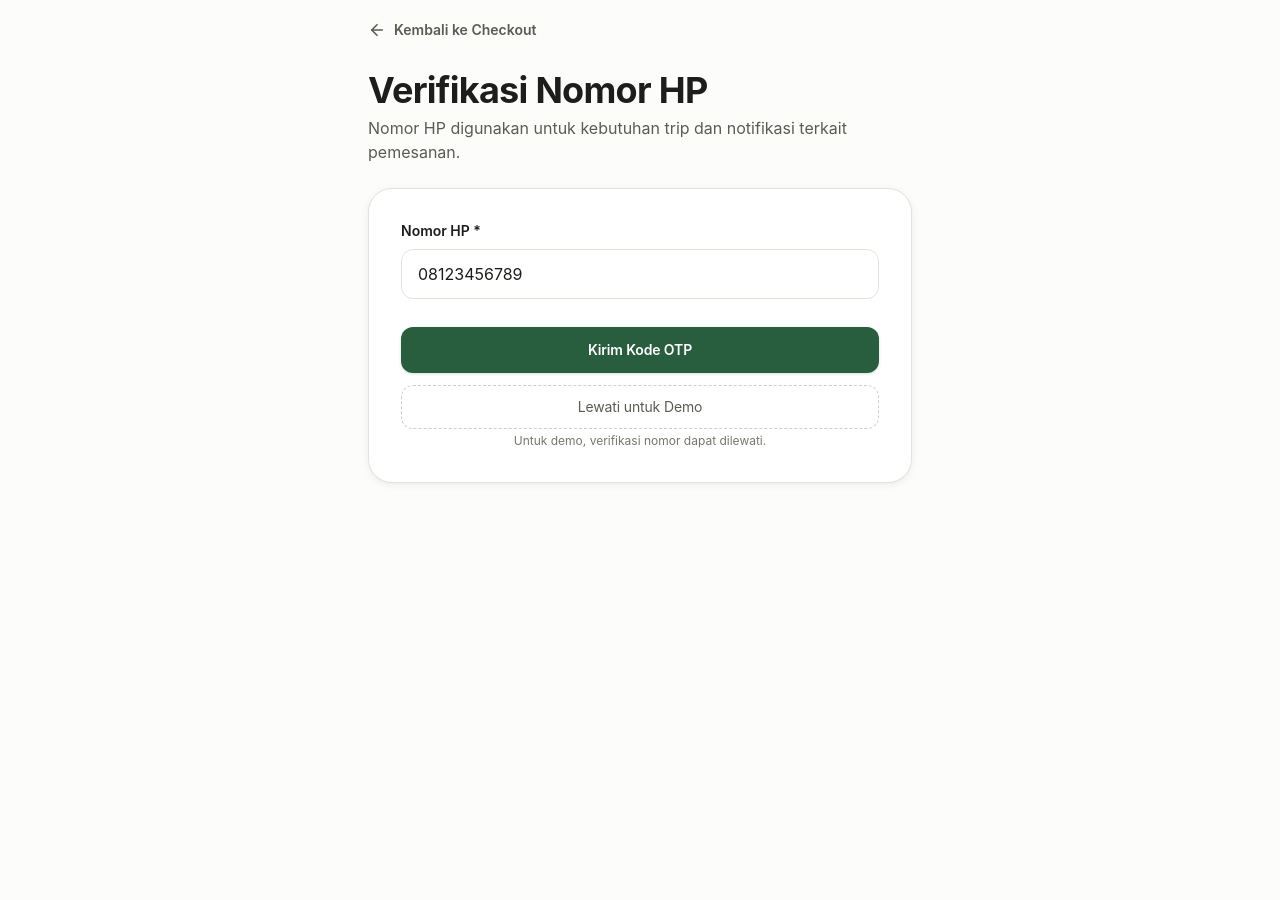
Scenario: ContactVerificationScreen (T11) Unit & Integration Tests › 31. back button from T11 preserves supplied draft on return to Checkout
Click the link with class "contact-verification-back-btn" at x=452, y=30, box 368,21 -> 536,39
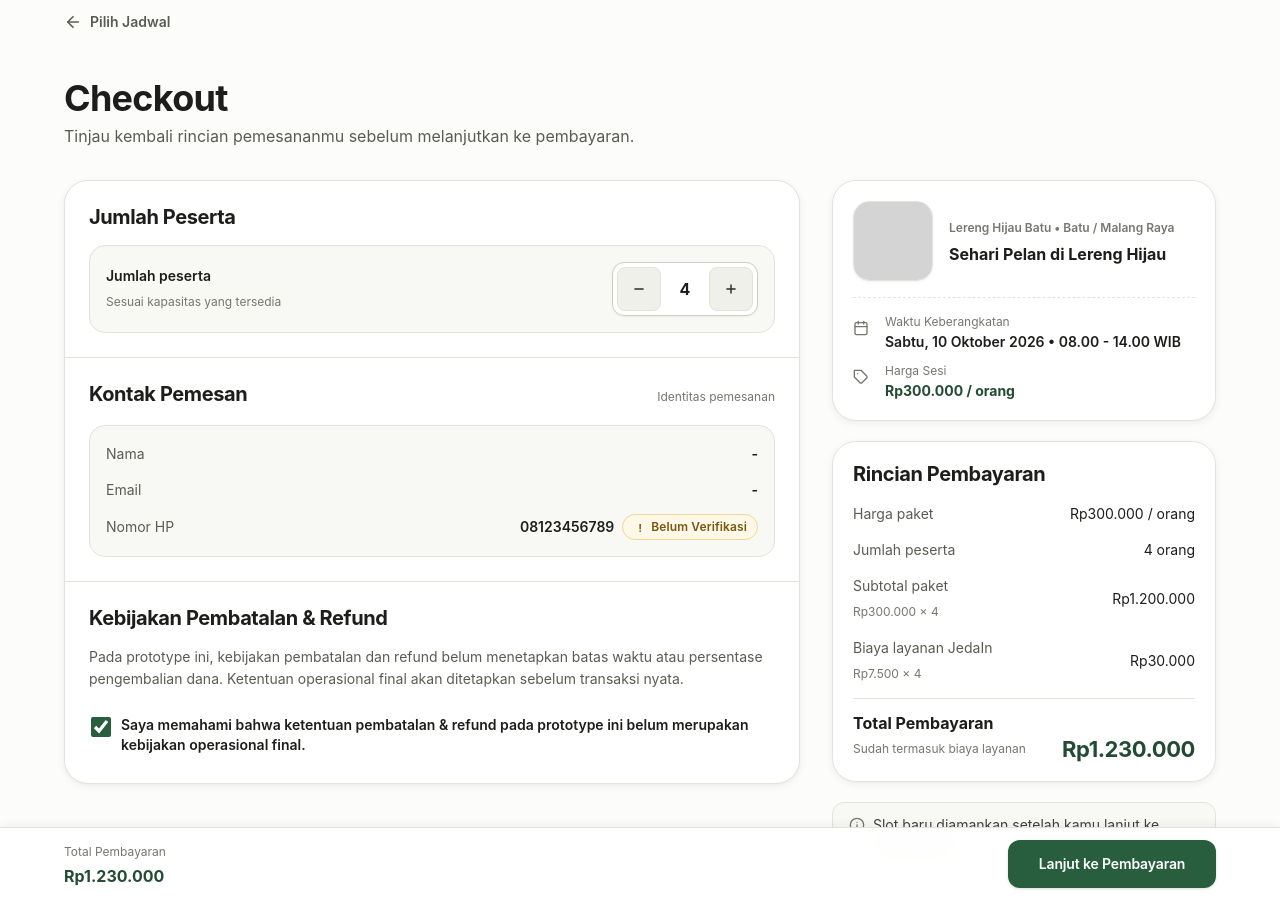
Expected: the message "4" is shown, 680,279 -> 690,299
Expected: the checkbox with id "cancellation-policy-ack" is checked, 91,717 -> 111,737
